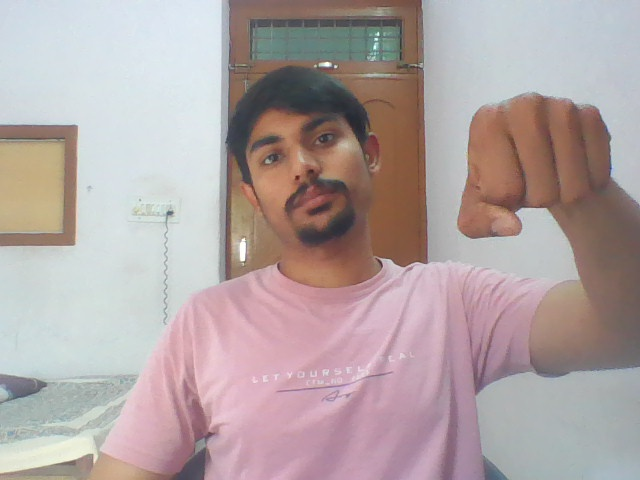Yes: (443, 90, 624, 243)
